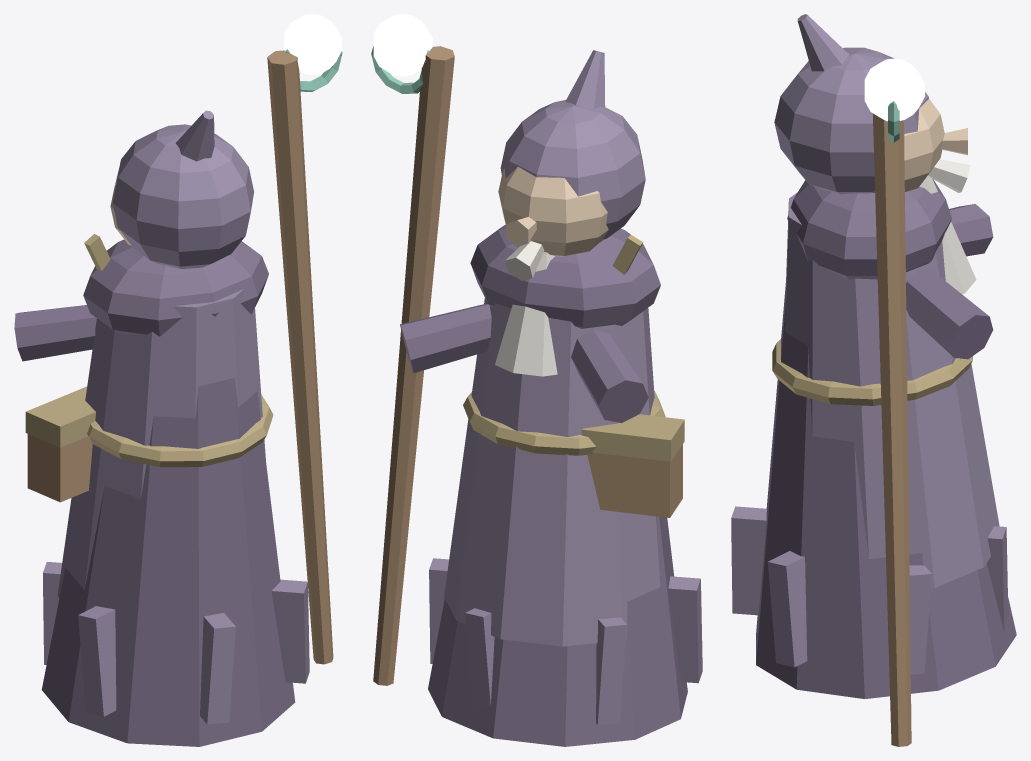
The model's file is maren_wayfarer.glb.
The picture shows the model from 3 angles, left to right: view 1: azimuth 30°, elevation 25°; view 2: azimuth 150°, elevation 25°; view 3: azimuth 270°, elevation 25°; orthographic projection. The views are drawn at different scales.
Visible parts, largest first — view 1: UnderRobe, OverRobe, Staff, Hood, Shoulders, Sash, SleeveL, Fold3, Satchel, Fold4, Fold5, SatchelFlap (+4 smaller); view 2: OverRobe, UnderRobe, Staff, Shoulders, Hood, Head, Satchel, SleeveL, SleeveR, SatchelFlap, Beard, Fold3 (+10 smaller); view 3: UnderRobe, OverRobe, Staff, Hood, Shoulders, SleeveR, Fold5, Sash, Fold4, SkyOrbCore, Head, Fold0 (+6 smaller).
Part boxes in pixels (left/top/right/bottom): UnderRobe: left=41, top=378, right=295, bottom=746; OverRobe: left=57, top=289, right=265, bottom=597; Staff: left=267, top=50, right=333, bottom=664; Hood: left=112, top=124, right=253, bottom=269; Shoulders: left=83, top=239, right=268, bottom=336; Sash: left=87, top=395, right=273, bottom=467; SleeveL: left=14, top=305, right=96, bottom=361; Fold3: left=78, top=606, right=116, bottom=716; Satchel: left=27, top=434, right=92, bottom=502; Fold4: left=200, top=613, right=235, bottom=724; Fold5: left=271, top=579, right=309, bottom=683; SatchelFlap: left=25, top=386, right=95, bottom=447; OverRobe: left=444, top=298, right=660, bottom=646; UnderRobe: left=428, top=516, right=687, bottom=746; Staff: left=373, top=46, right=454, bottom=685; Shoulders: left=470, top=225, right=660, bottom=328; Hood: left=500, top=100, right=645, bottom=239; Head: left=498, top=167, right=608, bottom=256; Satchel: left=587, top=444, right=682, bottom=517; SleeveL: left=571, top=329, right=648, bottom=422; SleeveR: left=400, top=304, right=491, bottom=372; SatchelFlap: left=581, top=414, right=684, bottom=461; Beard: left=495, top=252, right=557, bottom=376; Fold3: left=668, top=576, right=702, bottom=683; UnderRobe: left=756, top=283, right=1016, bottom=698; OverRobe: left=785, top=192, right=999, bottom=588; Staff: left=872, top=113, right=911, bottom=746; Hood: left=774, top=47, right=928, bottom=194; Shoulders: left=787, top=179, right=951, bottom=279; SleeveR: left=906, top=269, right=993, bottom=359; Fold5: left=767, top=551, right=807, bottom=667; Sash: left=772, top=339, right=972, bottom=405; Fold4: left=731, top=506, right=766, bottom=615; SkyOrbCore: left=864, top=58, right=924, bottom=121; Head: left=871, top=99, right=944, bottom=192; Fold0: left=909, top=565, right=931, bottom=674.
Size of the model in its own units: 1.21 by 2.46 by 0.9429.
